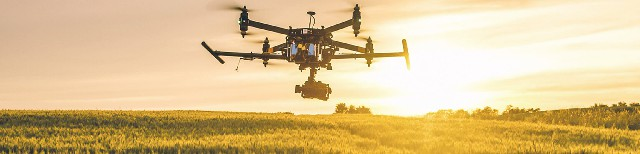maybay_khongnguoilai: (199, 3, 419, 99)
